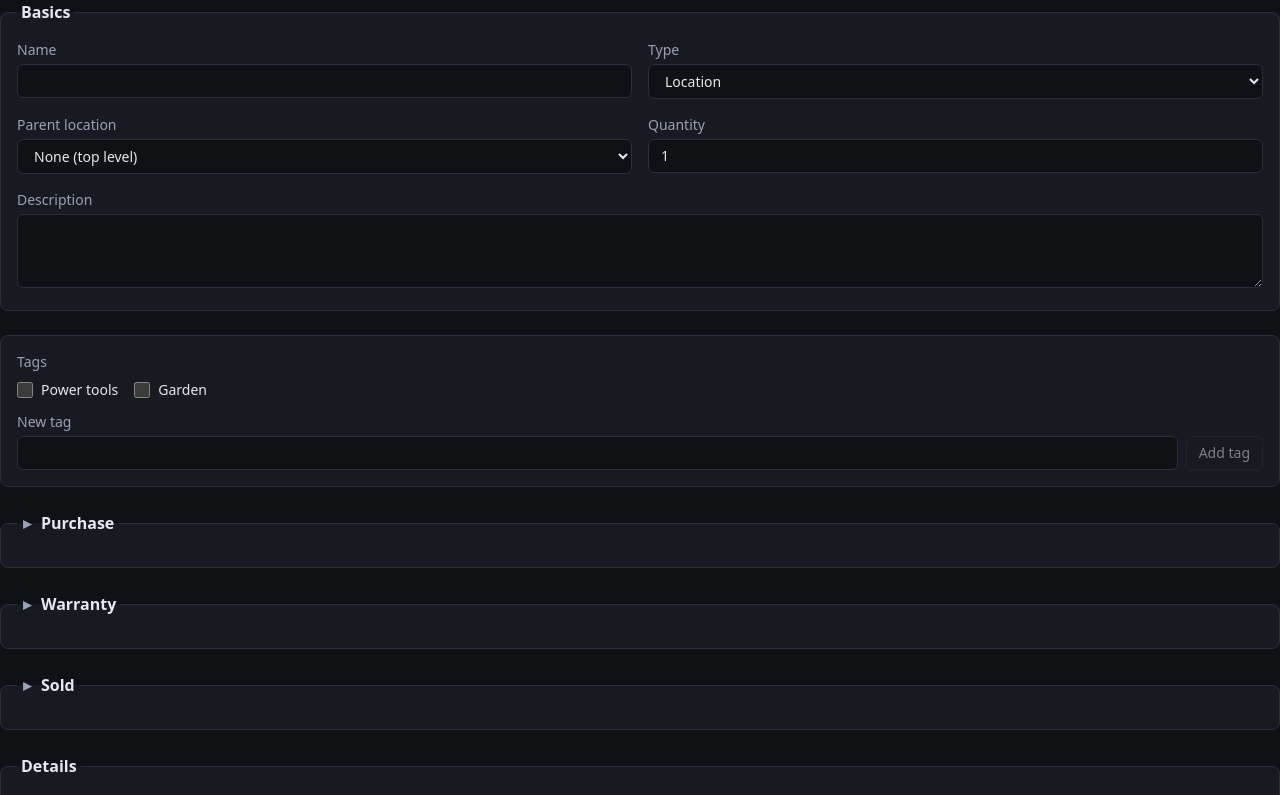
Test case: EntityForm › collapsible sections › opens a collapsed section on click
Expected: the checkbox labelled "Garden" is shown, top-left (134, 382), bottom-right (150, 398)
Click the button "▸ Purchase": click(68, 523) top-left (21, 511), bottom-right (114, 535)
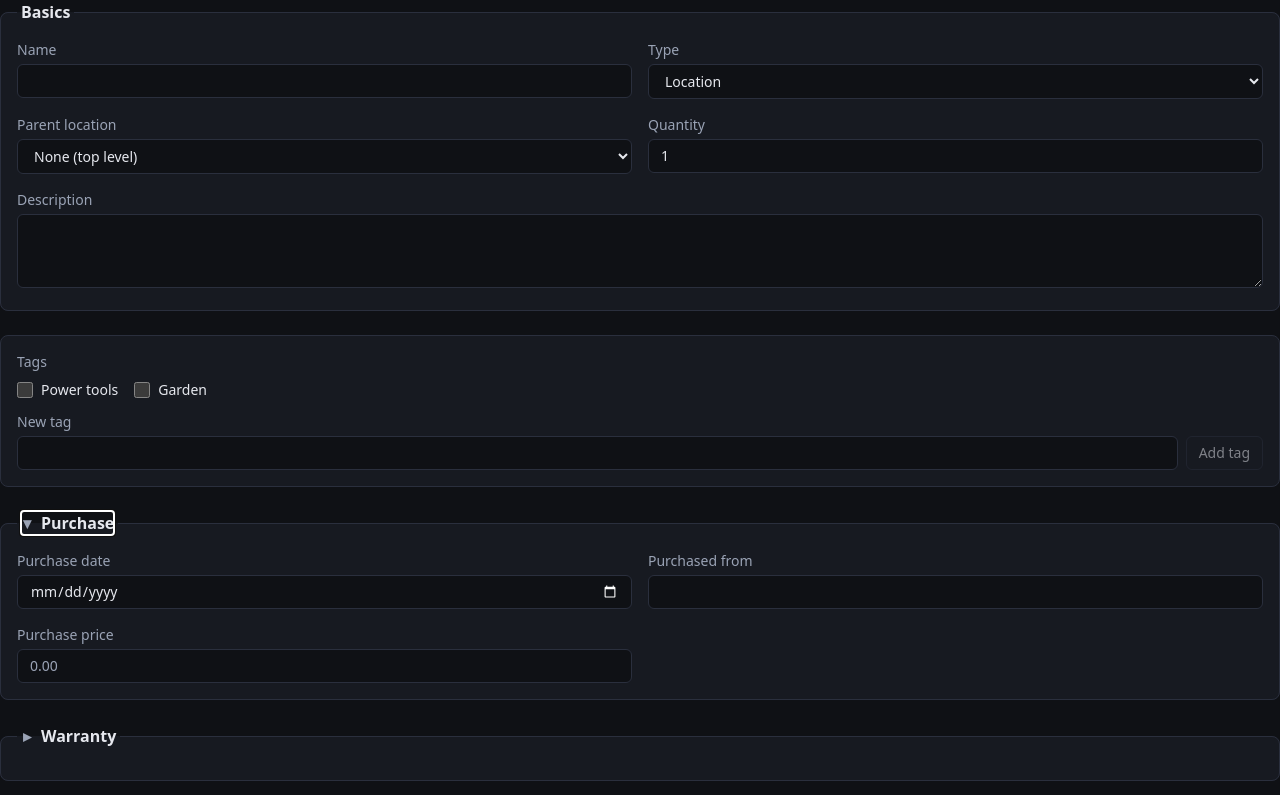
Expected: the button "▾ Purchase" is expanded, top-left (21, 511), bottom-right (114, 535)
Expected: the field labelled "Purchase price" is shown, top-left (17, 649), bottom-right (632, 683)
